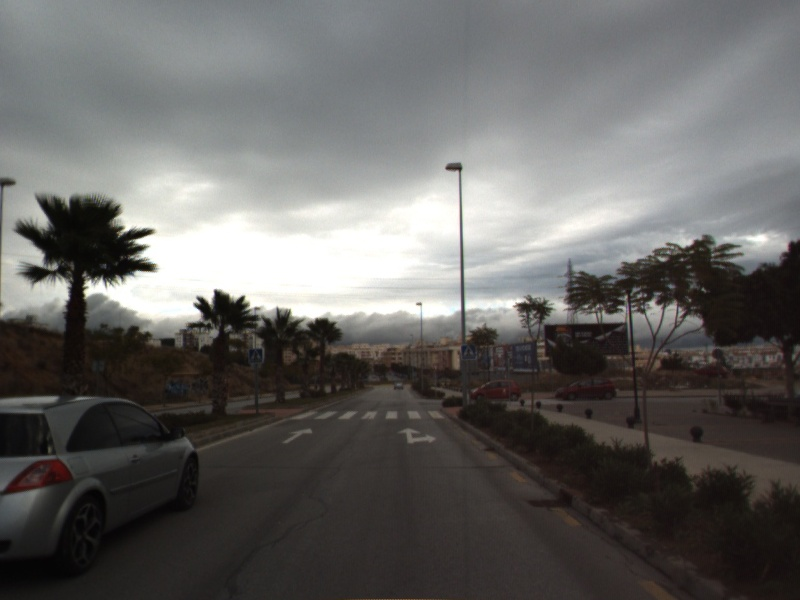STRAIGHT: (280, 426, 314, 445)
STRAIGHT_RIGHT: (395, 425, 438, 446)
